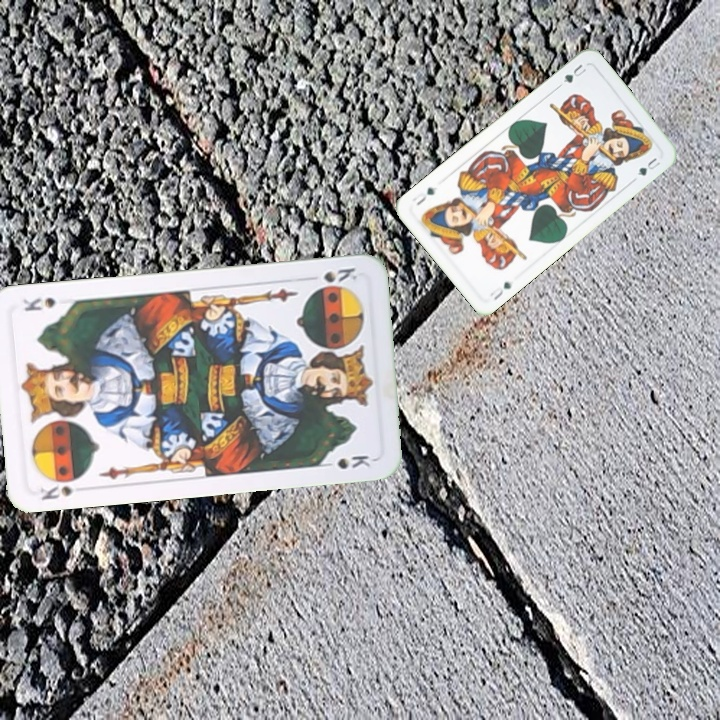GU: (559, 60, 589, 86), (485, 277, 514, 303)
SK: (319, 263, 360, 285), (36, 482, 76, 503)
